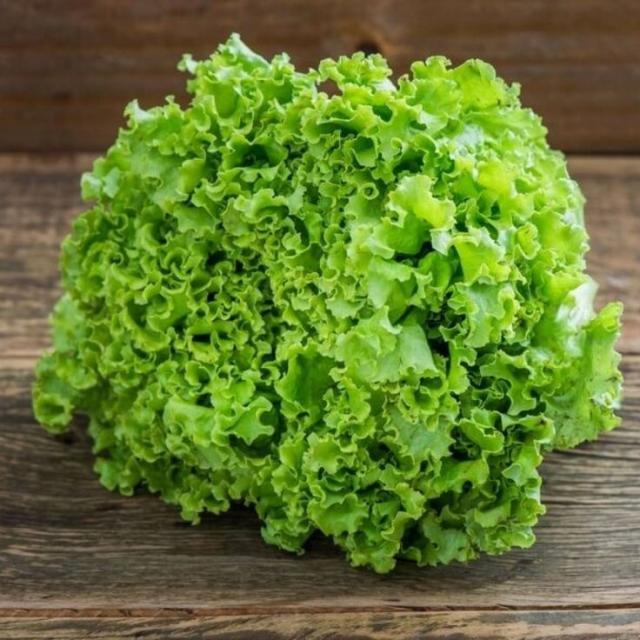lettuce: (34, 37, 620, 572)
